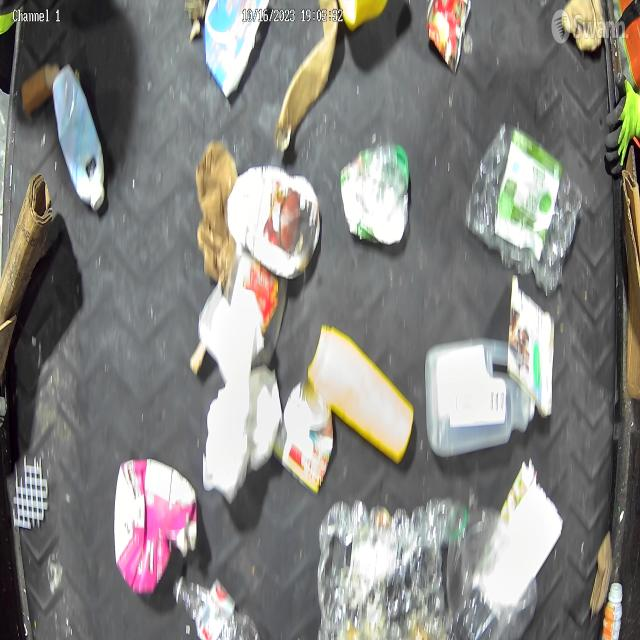can: (273, 379, 334, 496), (425, 0, 471, 76)
milk_jug: (425, 339, 535, 458), (52, 65, 106, 210)
non_white_jug: (306, 323, 414, 466), (113, 455, 198, 596), (226, 165, 321, 278)
plastic_bottle: (173, 573, 261, 640)
